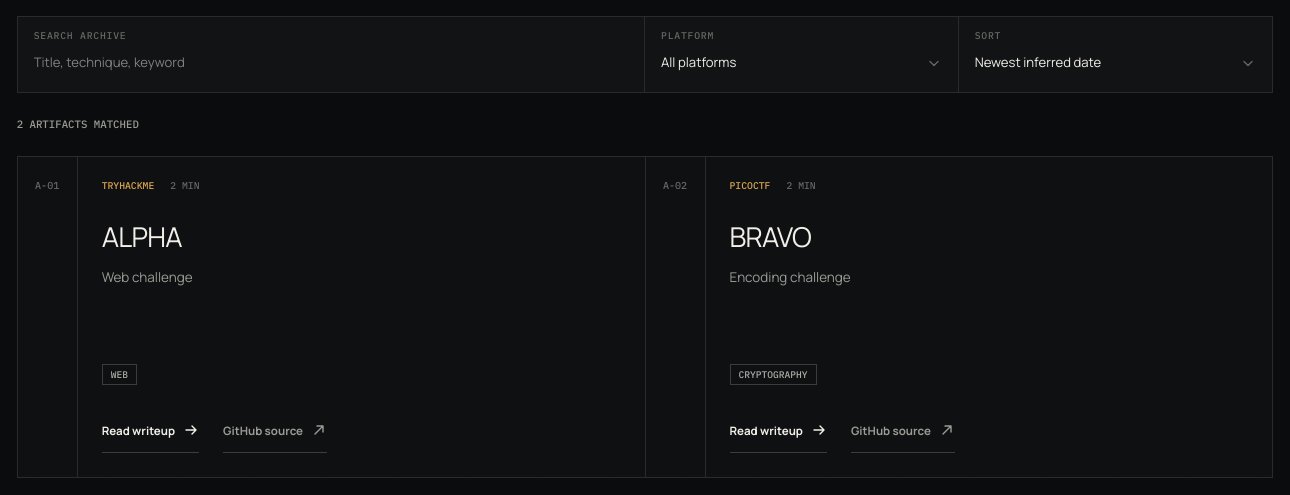
Test: WriteupExplorer › shows a recoverable empty state
Type "no-match" into the search field labelled "Search archive".
click(331, 63); type("no-match")  # box [34, 47, 628, 79]
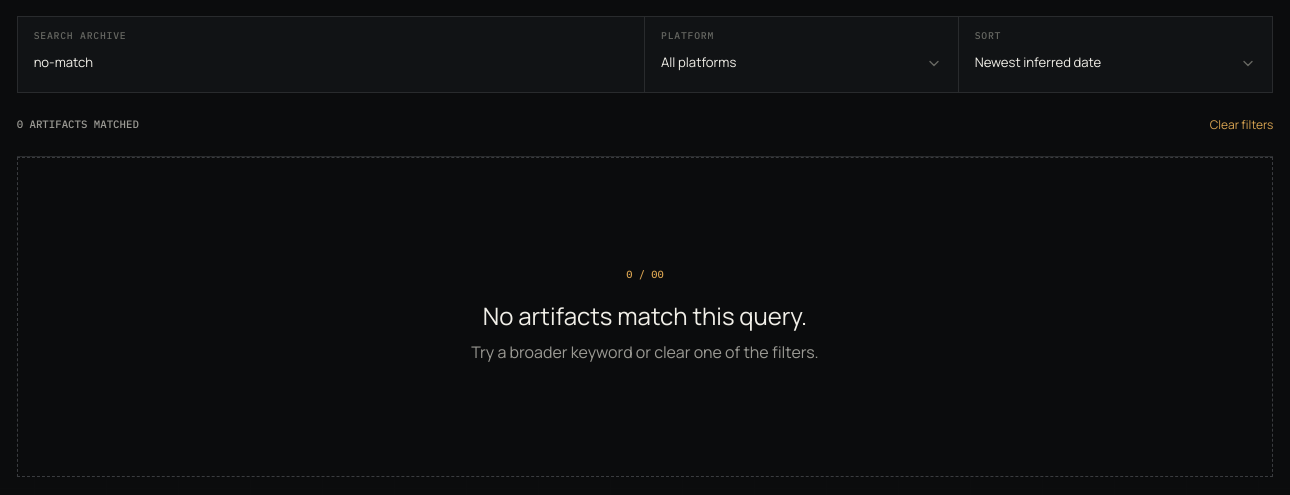
Result: the heading "No artifacts match this query." is shown at [483, 296, 807, 335]
Click the button "Clear filters".
click(1242, 125)  # box [1210, 103, 1273, 147]
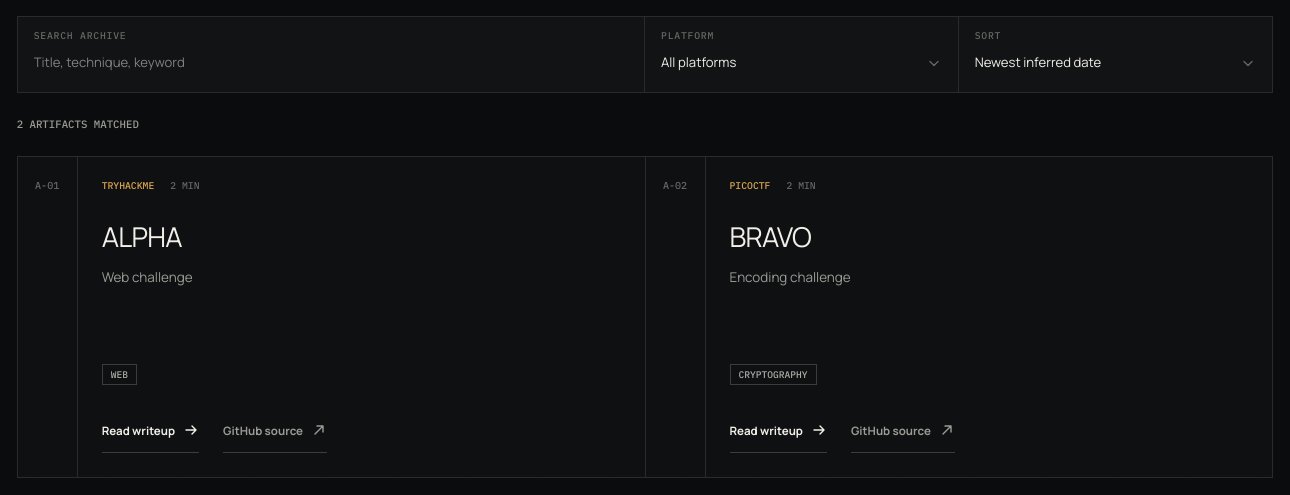
Result: the message reads "2 artifacts matched" at [17, 120, 139, 130]
